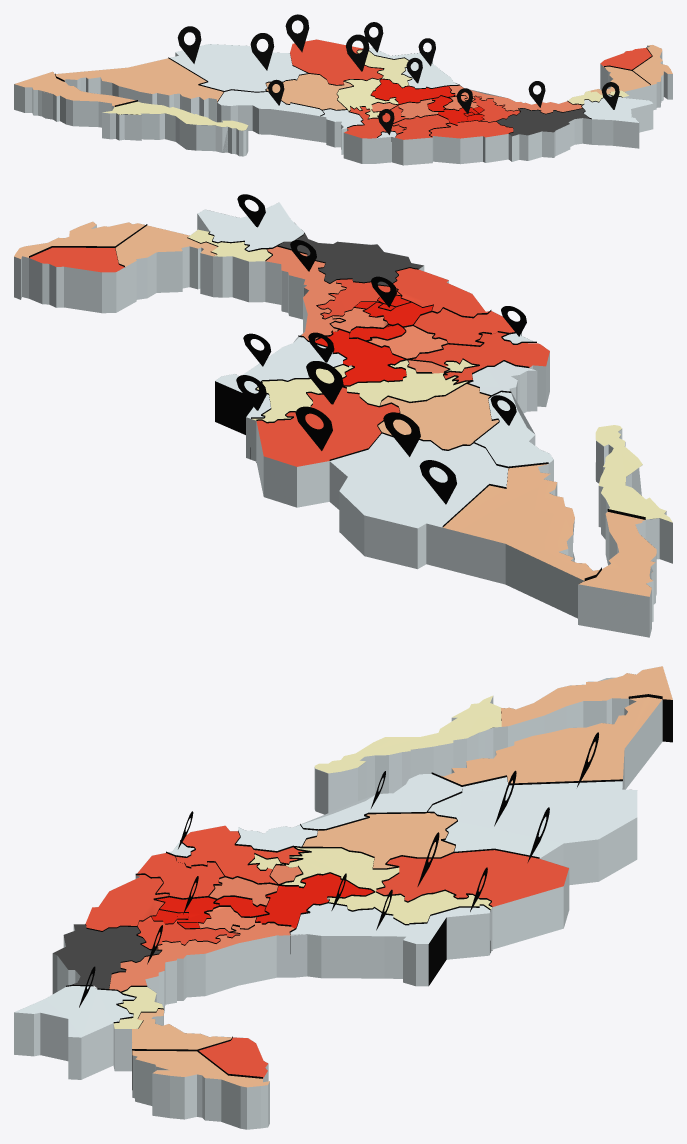
The model's file is Mapa_int.glb.
3 renders of one model, top to bottom at view 1: azimuth 30°, elevation 25°; view 2: azimuth 150°, elevation 25°; view 3: azimuth 270°, elevation 25°, orthographic. The views are drawn at different scales.
Visible parts, largest first — view 1: Plane, Circle.004, Circle.010, Circle.012, Circle.001, Circle.007, Circle.003, Circle.005, Circle.002, Circle.011; view 2: Plane, Circle.010, Circle.004, Circle.012, Circle.001; view 3: Plane.
Part boxes in pixels (<box>): Plane: <box>14,39,672,165</box>; Circle.004: <box>285,14,309,52</box>; Circle.010: <box>177,26,201,63</box>; Circle.012: <box>346,34,369,71</box>; Circle.001: <box>250,33,274,70</box>; Circle.007: <box>364,22,383,52</box>; Circle.003: <box>601,82,619,109</box>; Circle.005: <box>418,38,435,66</box>; Circle.002: <box>528,81,545,107</box>; Circle.011: <box>456,88,472,114</box>; Plane: <box>14,202,672,637</box>; Circle.010: <box>419,460,456,504</box>; Circle.004: <box>295,406,332,450</box>; Circle.012: <box>306,361,343,404</box>; Circle.001: <box>383,412,420,456</box>; Plane: <box>14,666,672,1129</box>.
Bounding box in the file's own units: 12.16 × 1.37 × 8.04.
